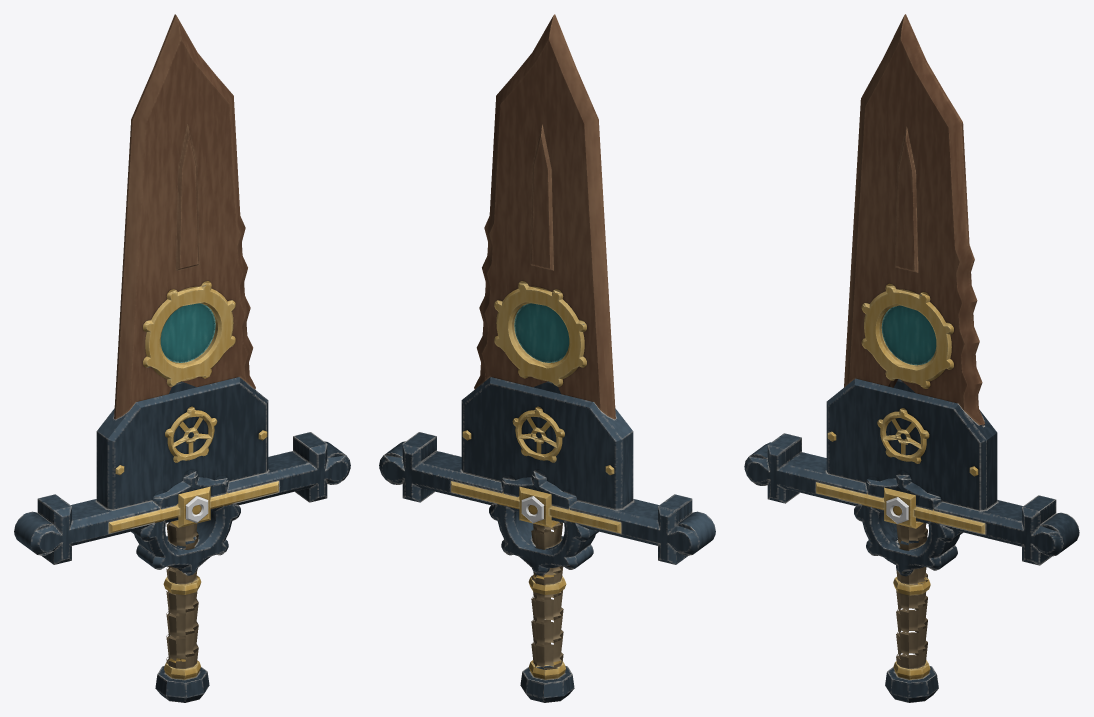
File: Keelbreaker.fbx
3 views of the same model, side by side, from view 1: azimuth 30°, elevation 25°; view 2: azimuth 150°, elevation 25°; view 3: azimuth 330°, elevation 25° (orthographic).
Visible parts, largest first — view 1: Keelbreaker_Body; view 2: Keelbreaker_Body; view 3: Keelbreaker_Body.
Boxes of the visible parts, <box> form: Keelbreaker_Body: <box>14,14,350,702</box>; Keelbreaker_Body: <box>379,14,715,702</box>; Keelbreaker_Body: <box>744,14,1079,702</box>.
Bounding box in the file's own units: 2.69 × 5.48 × 0.45.
